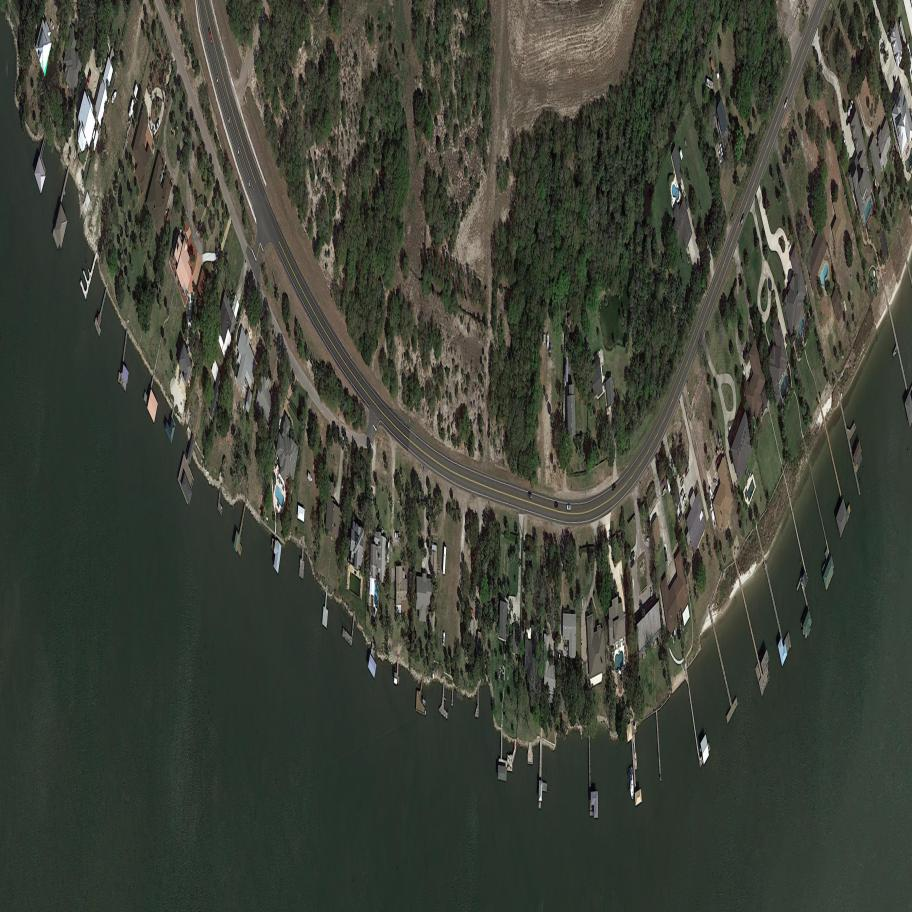ship: (629, 766, 635, 801), (709, 504, 717, 530), (109, 89, 120, 105), (386, 538, 391, 564), (421, 698, 428, 708), (443, 632, 446, 647)
small-vehicle: (207, 26, 215, 45), (148, 112, 154, 134), (608, 482, 619, 493), (707, 486, 715, 501), (153, 118, 162, 131), (683, 465, 691, 479), (628, 550, 637, 562), (739, 213, 747, 226), (783, 97, 790, 111), (742, 368, 748, 384), (196, 220, 202, 235), (49, 19, 56, 31), (681, 493, 688, 505), (719, 142, 724, 158), (718, 149, 723, 165), (629, 558, 637, 568), (677, 510, 683, 522), (664, 547, 668, 564), (679, 489, 685, 500), (650, 586, 654, 602), (87, 73, 91, 87), (842, 131, 846, 145), (557, 650, 561, 664), (713, 477, 718, 487), (523, 538, 526, 553), (342, 475, 345, 490), (278, 417, 281, 431), (527, 494, 533, 501), (563, 645, 568, 652), (567, 504, 571, 512), (554, 501, 558, 509), (549, 343, 551, 357), (395, 532, 399, 539), (371, 489, 373, 500)
